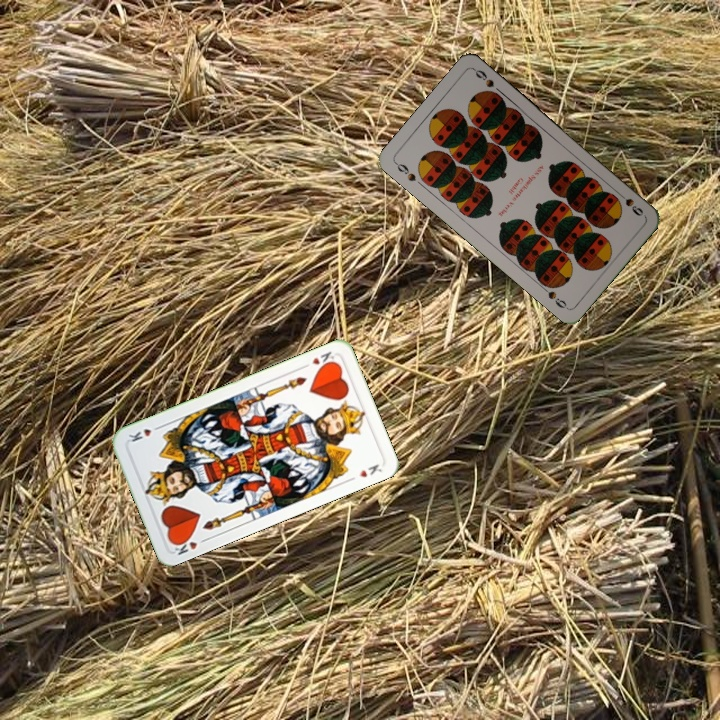HK: (169, 532, 210, 558), (299, 347, 338, 371)
S9: (613, 188, 646, 219), (391, 158, 418, 184)
